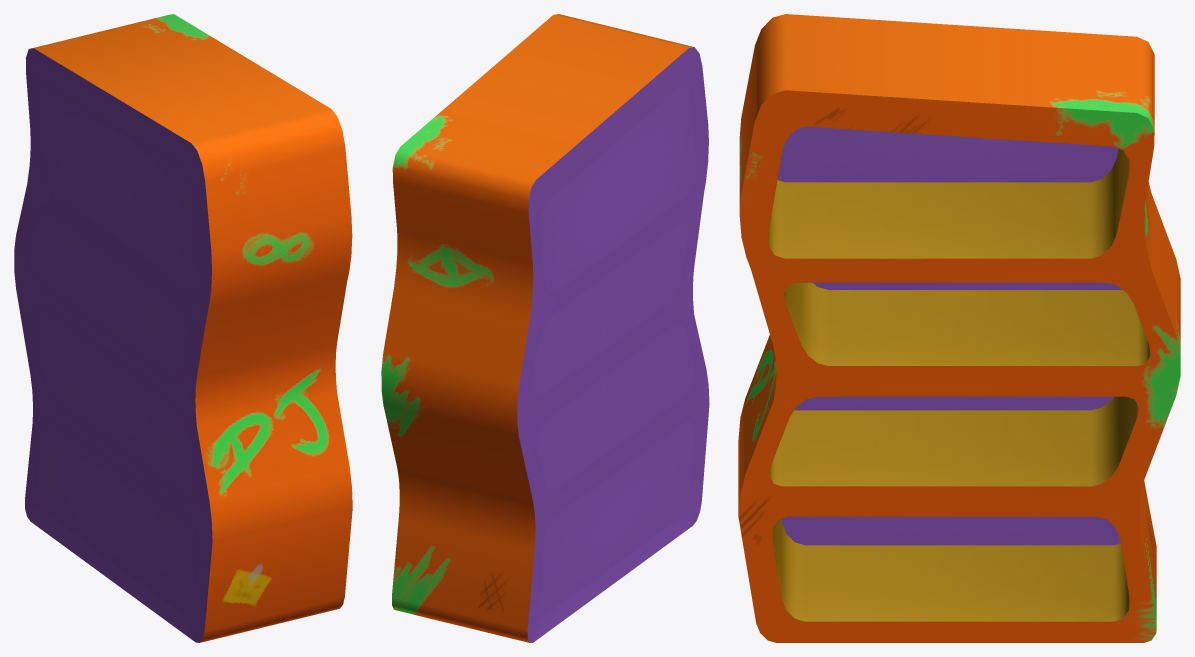
The model's file is PROP_097_FunkyCloset.fbx.
3 views of the same model, side by side, from view 1: azimuth 30°, elevation 25°; view 2: azimuth 150°, elevation 25°; view 3: azimuth 270°, elevation 25° (orthographic). The views are drawn at different scales.
Visible parts, largest first — view 1: Closet; view 2: Closet; view 3: Closet.
Boxes of the visible parts, x1,y1,x2,y2 form: Closet: (14,14,352,642); Closet: (381,14,709,642); Closet: (738,14,1180,642).
Size of the model in its own units: 0.7097 by 2.4 by 1.74.
1 material, 1 textured.
